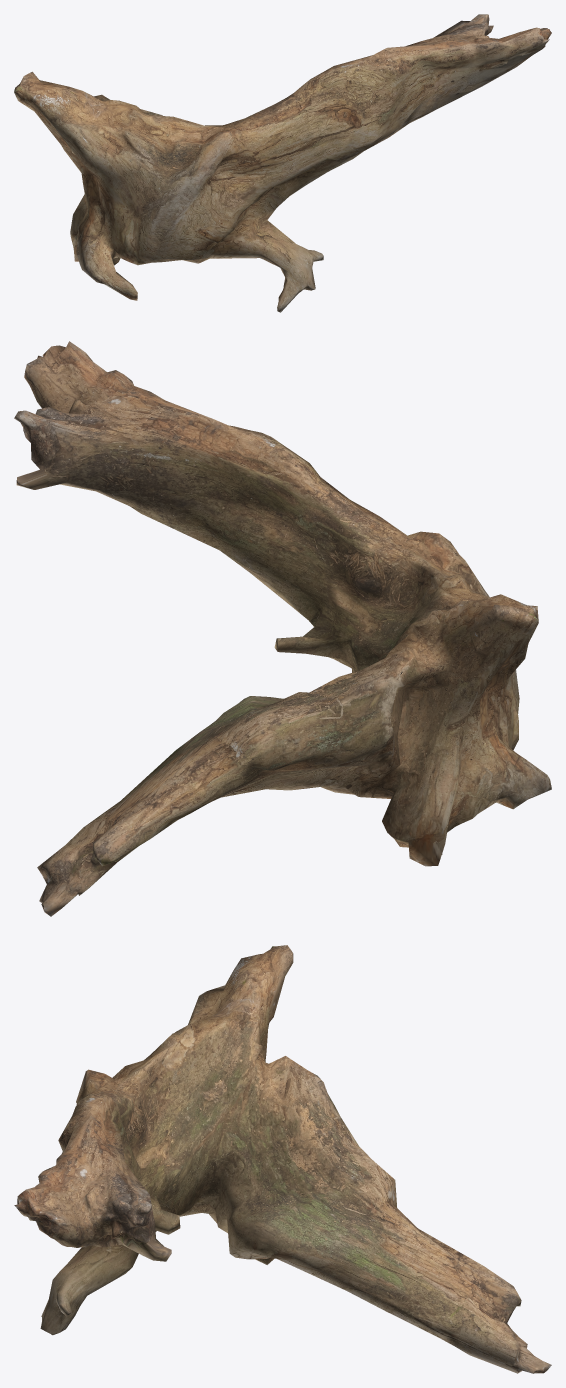
The model's file is SM_TreeStump_07_01.fbx.
The picture shows the model from 3 angles, top to bottom: view 1: azimuth 30°, elevation 25°; view 2: azimuth 150°, elevation 25°; view 3: azimuth 270°, elevation 25°; orthographic projection. The views are drawn at different scales.
Parts seen in each view (by area): view 1: sm_TreeStump_07_01_LOD0; view 2: sm_TreeStump_07_01_LOD0; view 3: sm_TreeStump_07_01_LOD0.
Part boxes in pixels (x1,y1,x2,y2): sm_TreeStump_07_01_LOD0: (14, 14, 551, 312); sm_TreeStump_07_01_LOD0: (14, 341, 551, 916); sm_TreeStump_07_01_LOD0: (14, 945, 551, 1373).
Bounding box in the file's own units: 83.29 × 107 × 51.32.
